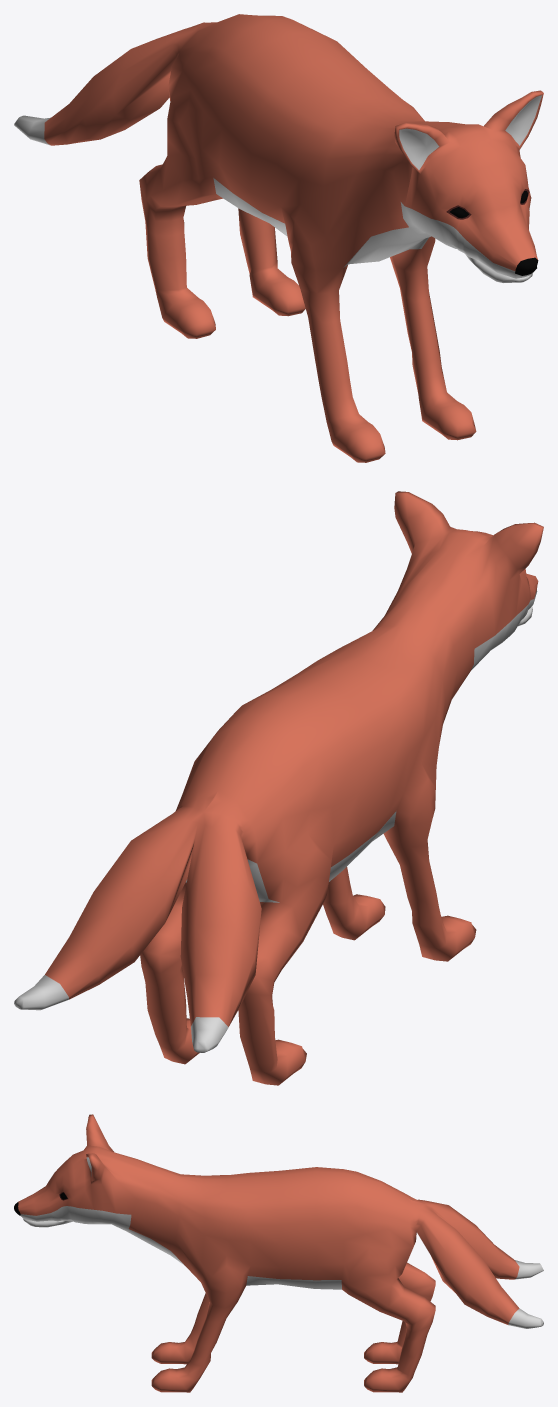
The model's file is Fox.fbx.
The picture shows the model from 3 angles, top to bottom: view 1: azimuth 30°, elevation 25°; view 2: azimuth 150°, elevation 25°; view 3: azimuth 270°, elevation 25°; orthographic projection. The views are drawn at different scales.
Parts seen in each view (by area): view 1: Cube; view 2: Cube; view 3: Cube.
Part boxes in pixels (x1=…): Cube: x1=14, y1=14, x2=543, y2=462; Cube: x1=14, y1=491, x2=543, y2=1085; Cube: x1=14, y1=1114, x2=543, y2=1392.
Bounding box in the file's own units: 236 × 443 × 889.
